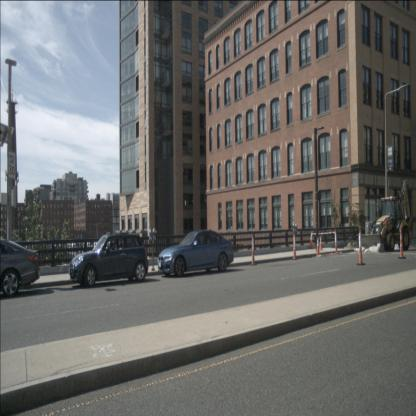movable_object-trafficcone: (356, 231, 365, 265), (398, 229, 406, 259), (250, 233, 257, 266), (292, 230, 297, 260), (334, 231, 339, 255), (316, 237, 320, 257), (310, 232, 314, 249), (319, 235, 323, 251)
vehicle-car: (69, 230, 149, 286), (158, 231, 234, 278), (0, 239, 41, 298)
